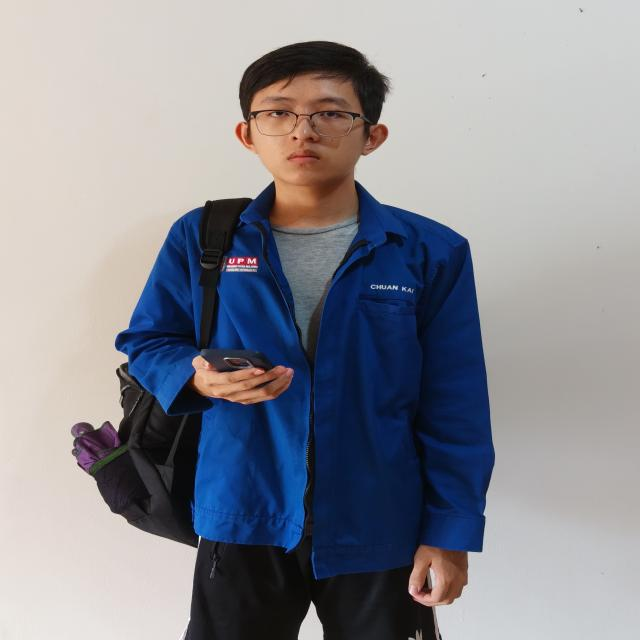person_with_labcoat: (72, 42, 494, 640)
